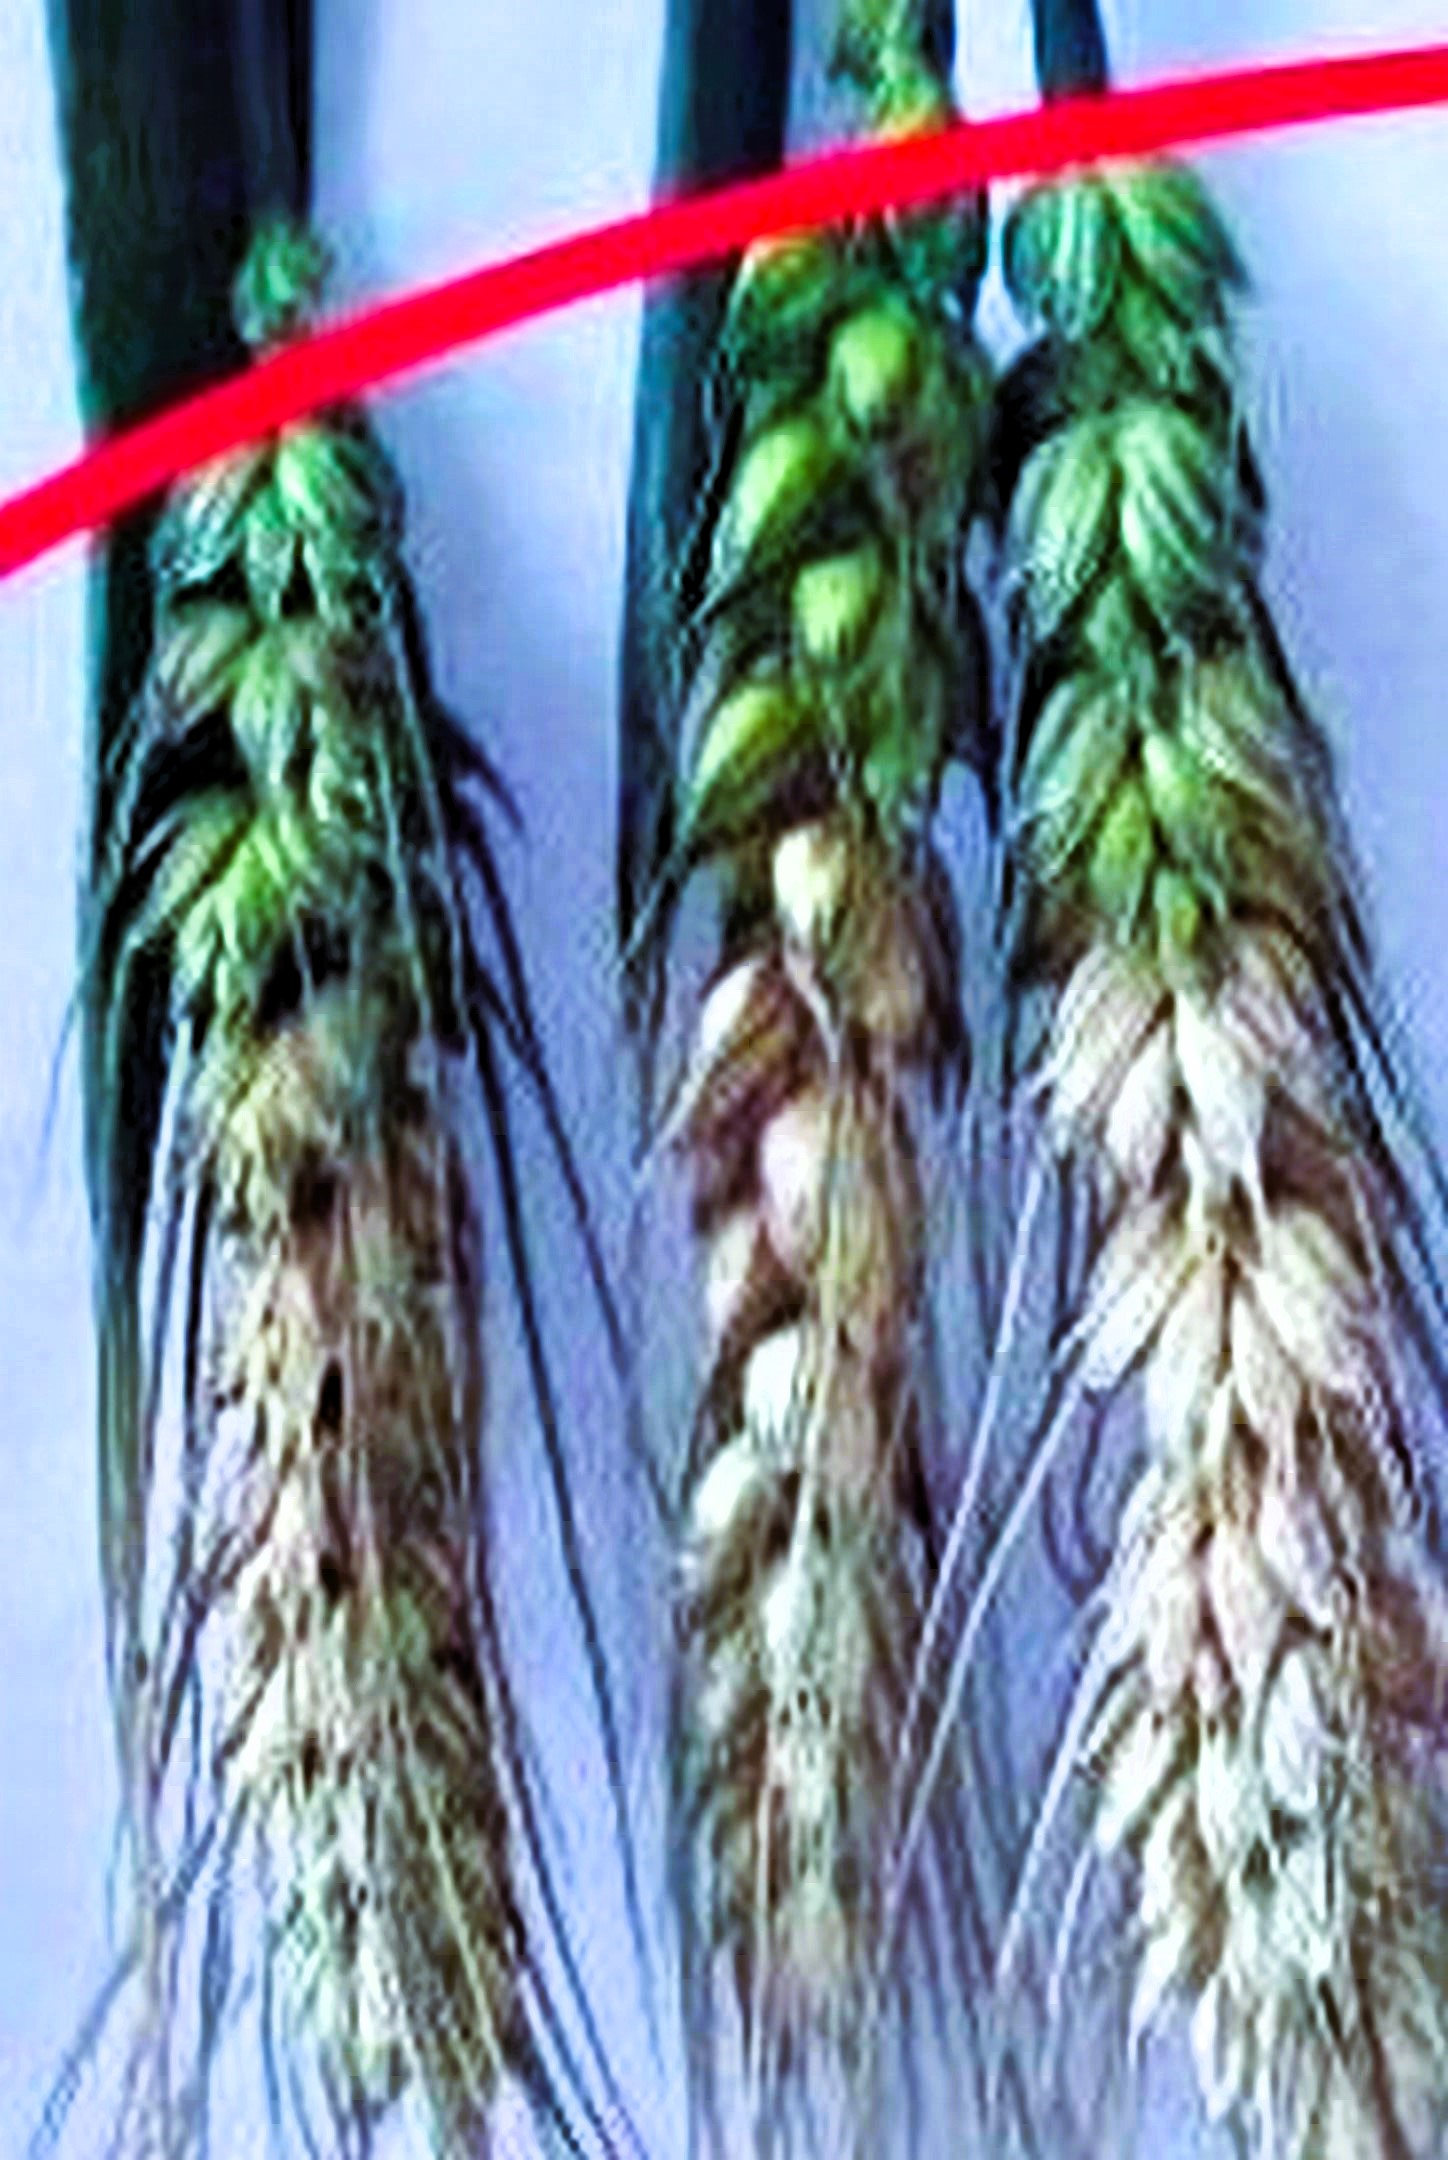Wheat scab: (983, 153, 1430, 2095)
